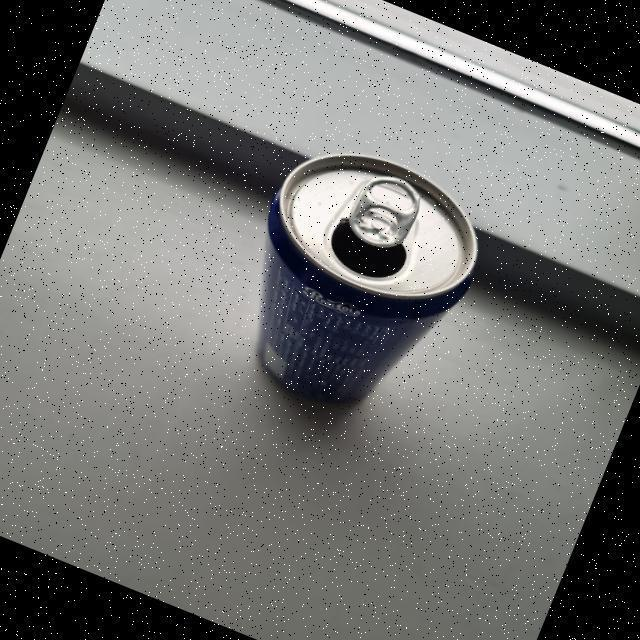can: (202, 124, 502, 453)
